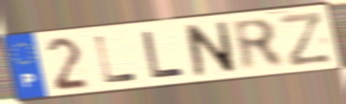2: (44, 35, 94, 94)
L: (139, 29, 187, 81), (92, 34, 140, 86)
N: (183, 19, 239, 79)
R: (229, 17, 289, 74)
Z: (276, 10, 335, 70)
